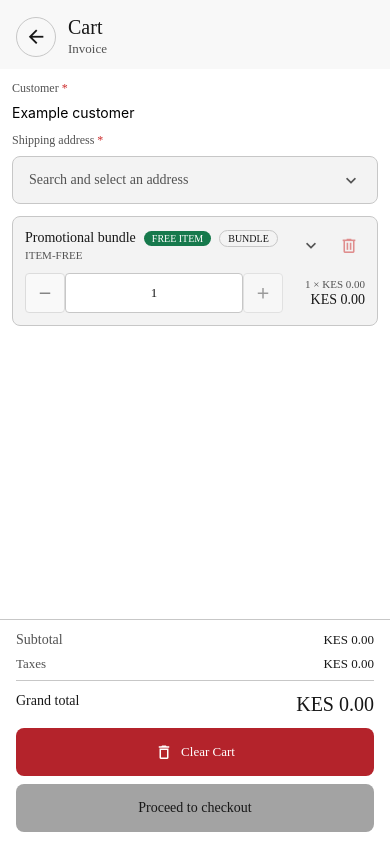
Test: PosCartScreen › presents server-authoritative promotion, tax, free-item, and bundle context
Check: the text "Free item" is shown, box [144,230,211,246]
Check: the text "Bundle" is shown, box [219,230,278,246]
Click the button with aria-label "View details for Promotional bundle".
click(173, 245)  # box [25,230,321,260]
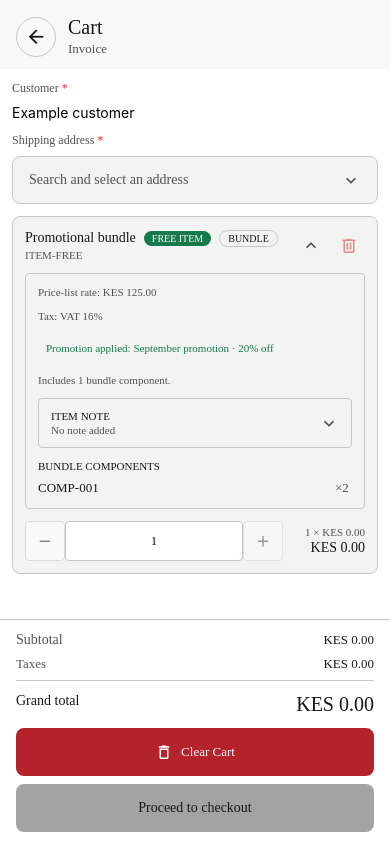
Check: the text "Tax: VAT 16%" is shown, box [38,310,103,322]
Check: the text "Promotion applied: September promotion · 20% off" is shown, box [38,334,352,362]
Check: the text "Includes 1 bundle component." is shown, box [38,374,171,386]
